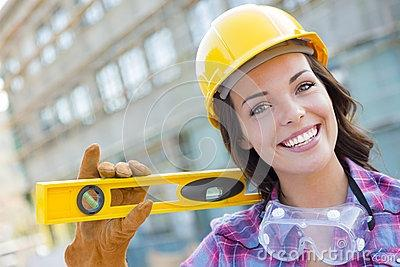helmet: (193, 1, 331, 115)
no_wear: (169, 199, 400, 267)
